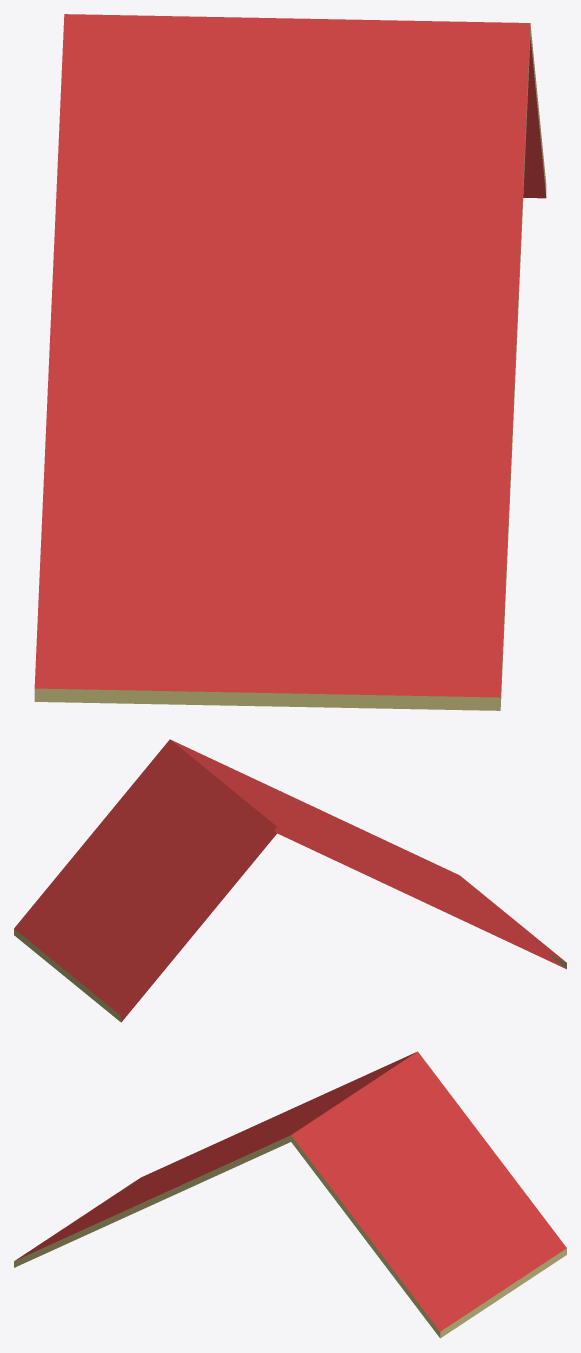
3 views of the same model, one above another, from view 1: azimuth 30°, elevation 25°; view 2: azimuth 150°, elevation 25°; view 3: azimuth 270°, elevation 25° (orthographic). The views are drawn at different scales.
Bounding box in the file's own units: 6.34 × 7.44 × 3.09.
